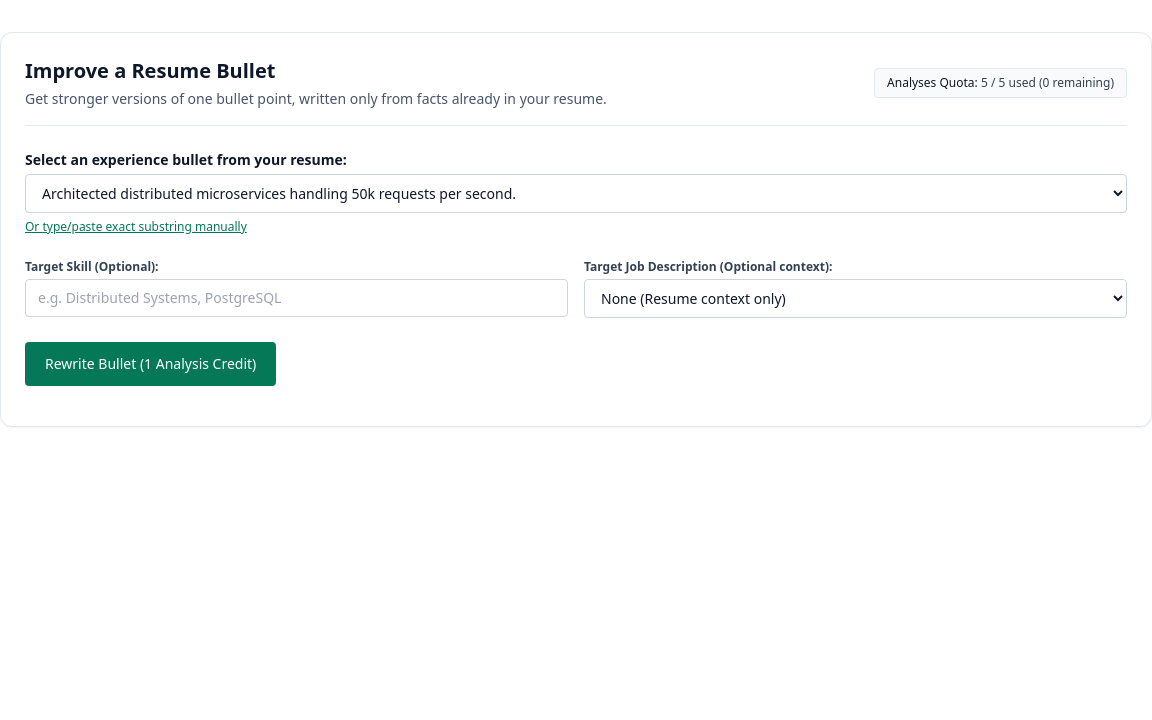
Test: BulletEditor Component › handles 429 usage limit exceeded banner
The width and height of the screenshot is (1152, 720).
Click the button "Rewrite Bullet (1 Analysis Credit)" at {"x": 151, "y": 364}, box [25,342,276,386]
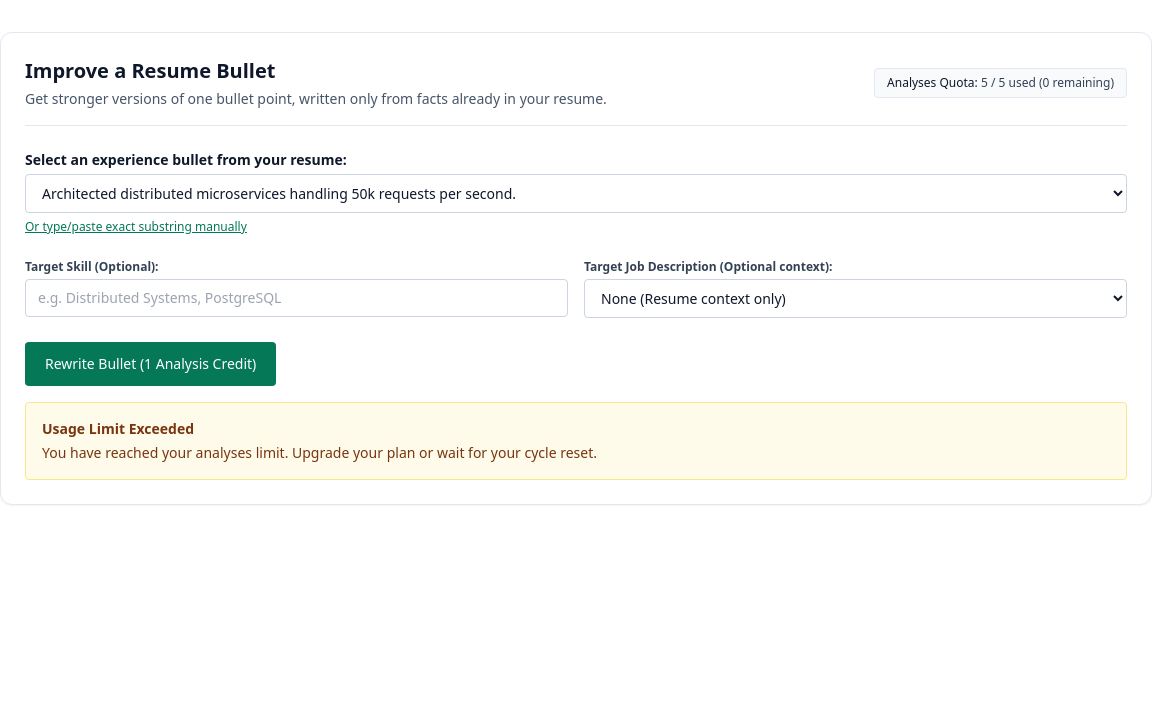
Expected: the text "Usage Limit Exceeded" is shown, [42,419,194,438]
